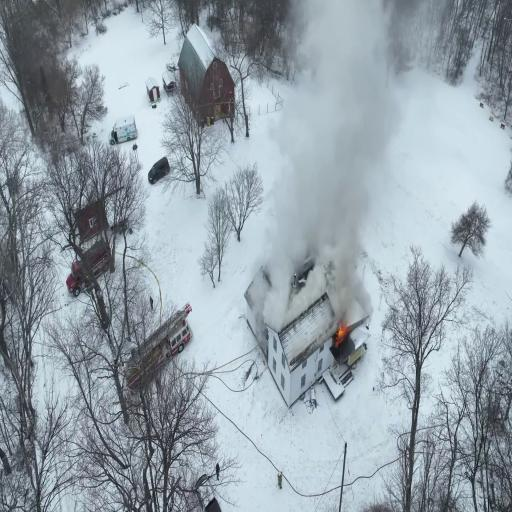smoke: (305, 167, 348, 244)
